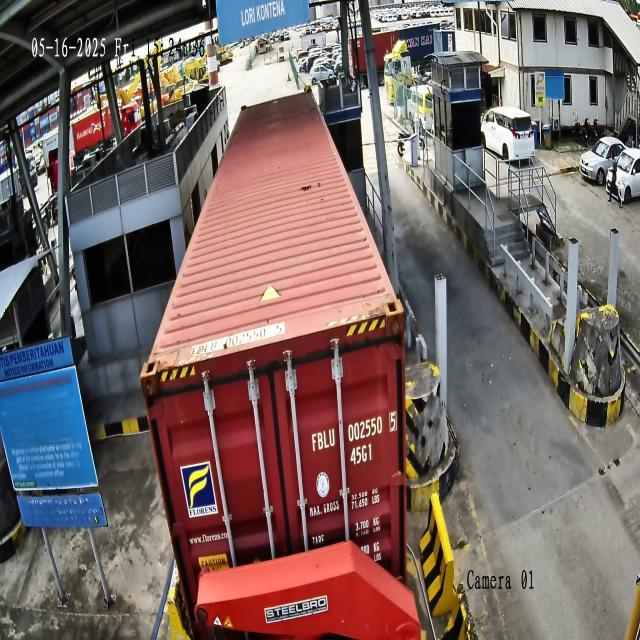ISO: (350, 443, 373, 468)
container_number: (310, 408, 398, 454)
